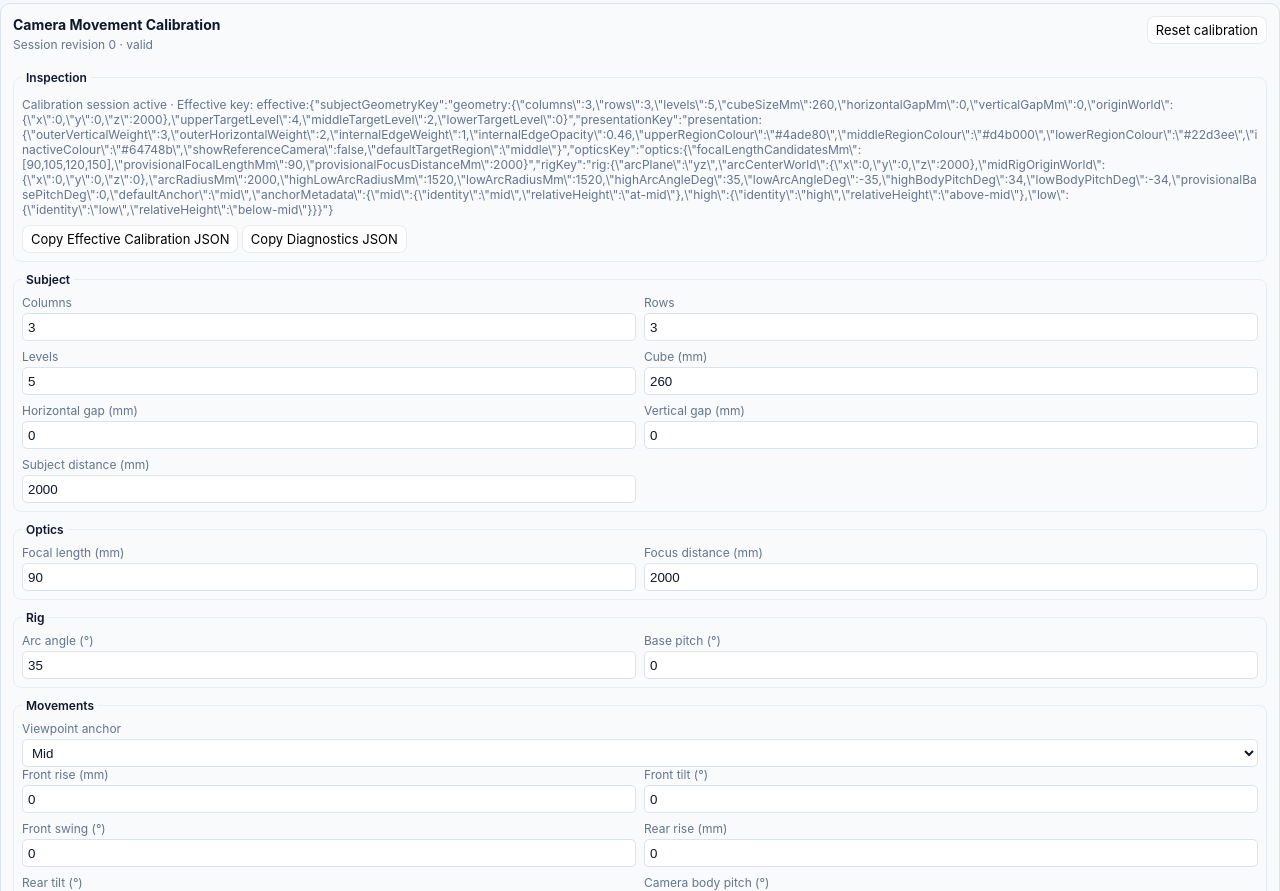
Test: camera calibration workbench › exposes labelled fields and disables standard movements at high anchor
Expected: the field labelled "Columns" is shown, [22,313,636,341]
Select "High" in the dropdown labelled "Viewpoint anchor" at coordinates (640, 753), box [22,739,1258,767]
(page scrolled)
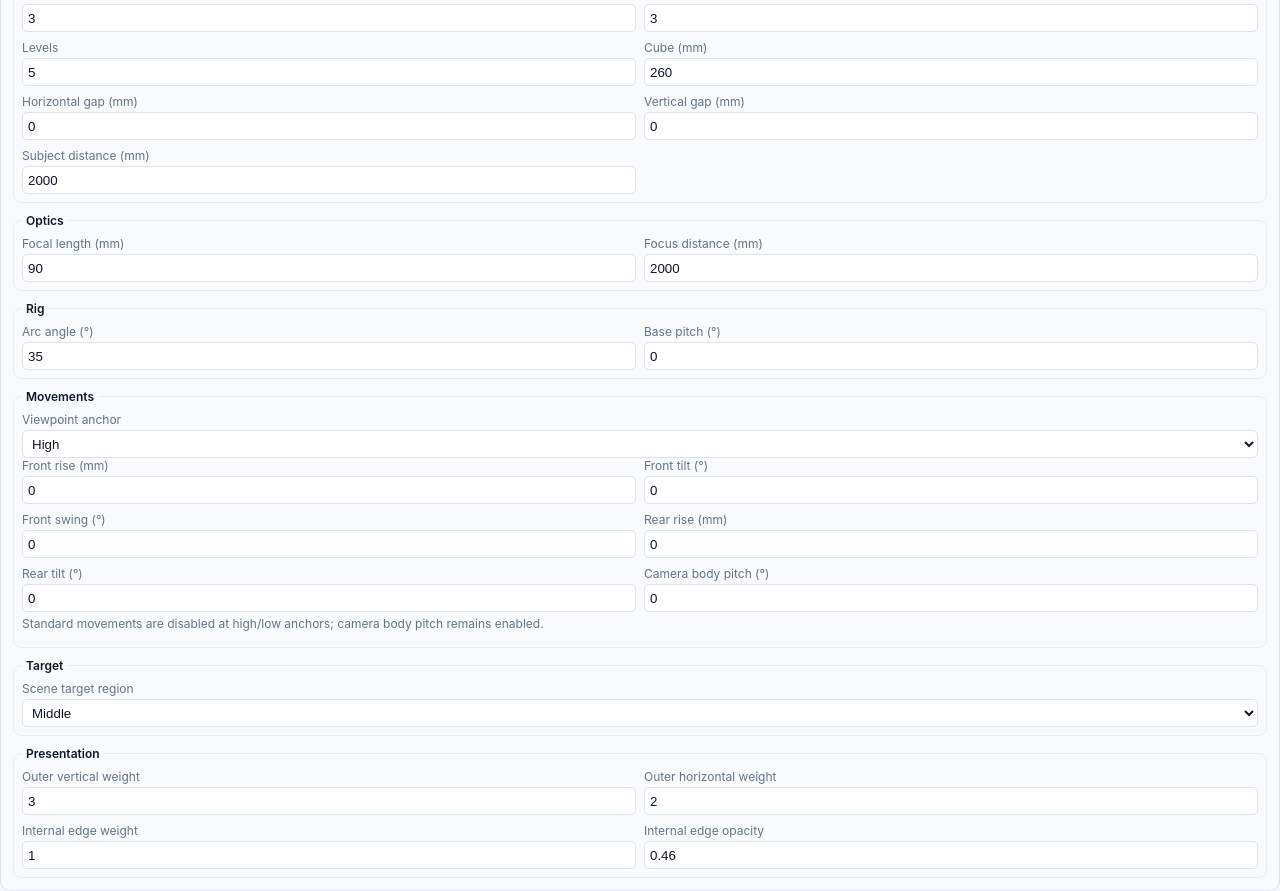
Expected: the field labelled "Camera body pitch (°)" is enabled, [644,584,1258,612]
Expected: the field labelled "Front rise (mm)" is disabled, [22,476,636,504]
